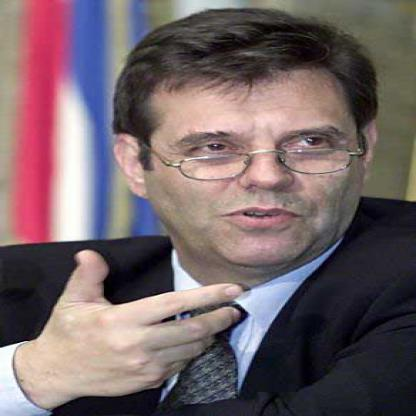face: (140, 15, 366, 270)
